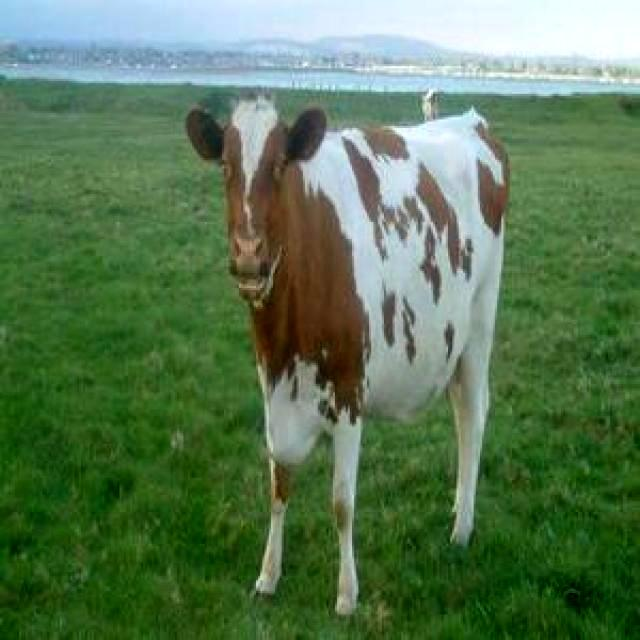COW: (186, 95, 509, 614)
